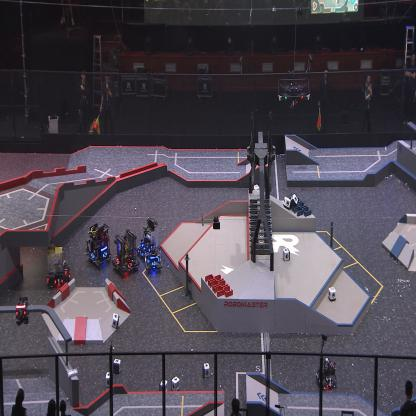car: (111, 231, 140, 278), (85, 221, 111, 270), (44, 243, 72, 288), (135, 216, 160, 260), (315, 356, 338, 390), (144, 243, 162, 274)
